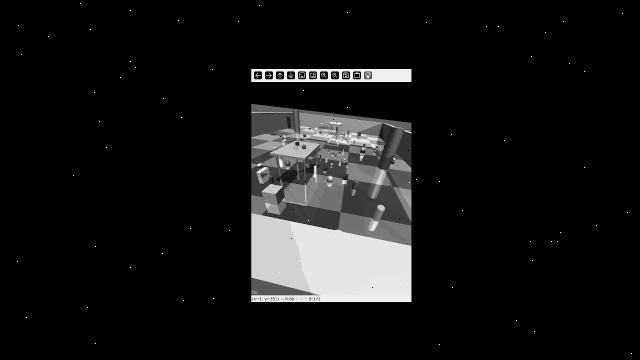cilindro: (379, 124, 404, 171), (372, 204, 386, 222), (294, 109, 300, 134), (351, 179, 359, 190), (270, 175, 275, 185), (313, 165, 317, 173), (270, 131, 276, 136), (292, 146, 298, 151), (277, 156, 283, 161), (282, 134, 287, 139), (352, 139, 356, 145), (390, 160, 395, 164), (319, 154, 322, 160), (336, 126, 339, 132), (321, 132, 325, 136), (347, 140, 351, 144), (345, 162, 349, 166), (282, 139, 285, 144), (335, 135, 338, 139), (347, 130, 349, 134), (338, 152, 342, 154), (326, 158, 328, 161), (344, 133, 346, 136), (343, 149, 344, 153), (336, 121, 337, 123)
cuadrado: (261, 183, 285, 205), (341, 173, 351, 179), (354, 131, 363, 136), (304, 159, 311, 164), (294, 142, 301, 146), (302, 134, 308, 137), (272, 148, 278, 151), (331, 152, 335, 156), (362, 144, 367, 147), (308, 127, 312, 130), (338, 161, 341, 165), (333, 136, 336, 139), (341, 136, 344, 139), (338, 122, 340, 125), (375, 143, 378, 144)
esfera: (326, 175, 334, 183), (284, 158, 291, 167), (256, 163, 263, 168), (302, 145, 306, 150), (345, 136, 349, 140), (330, 162, 334, 166), (342, 157, 346, 161), (375, 145, 380, 148), (393, 157, 396, 161), (314, 127, 317, 131), (374, 150, 377, 153), (326, 133, 329, 136), (327, 149, 331, 151), (333, 121, 335, 124), (341, 139, 344, 141), (316, 132, 317, 133)
rectangulo: (323, 165, 329, 172)
